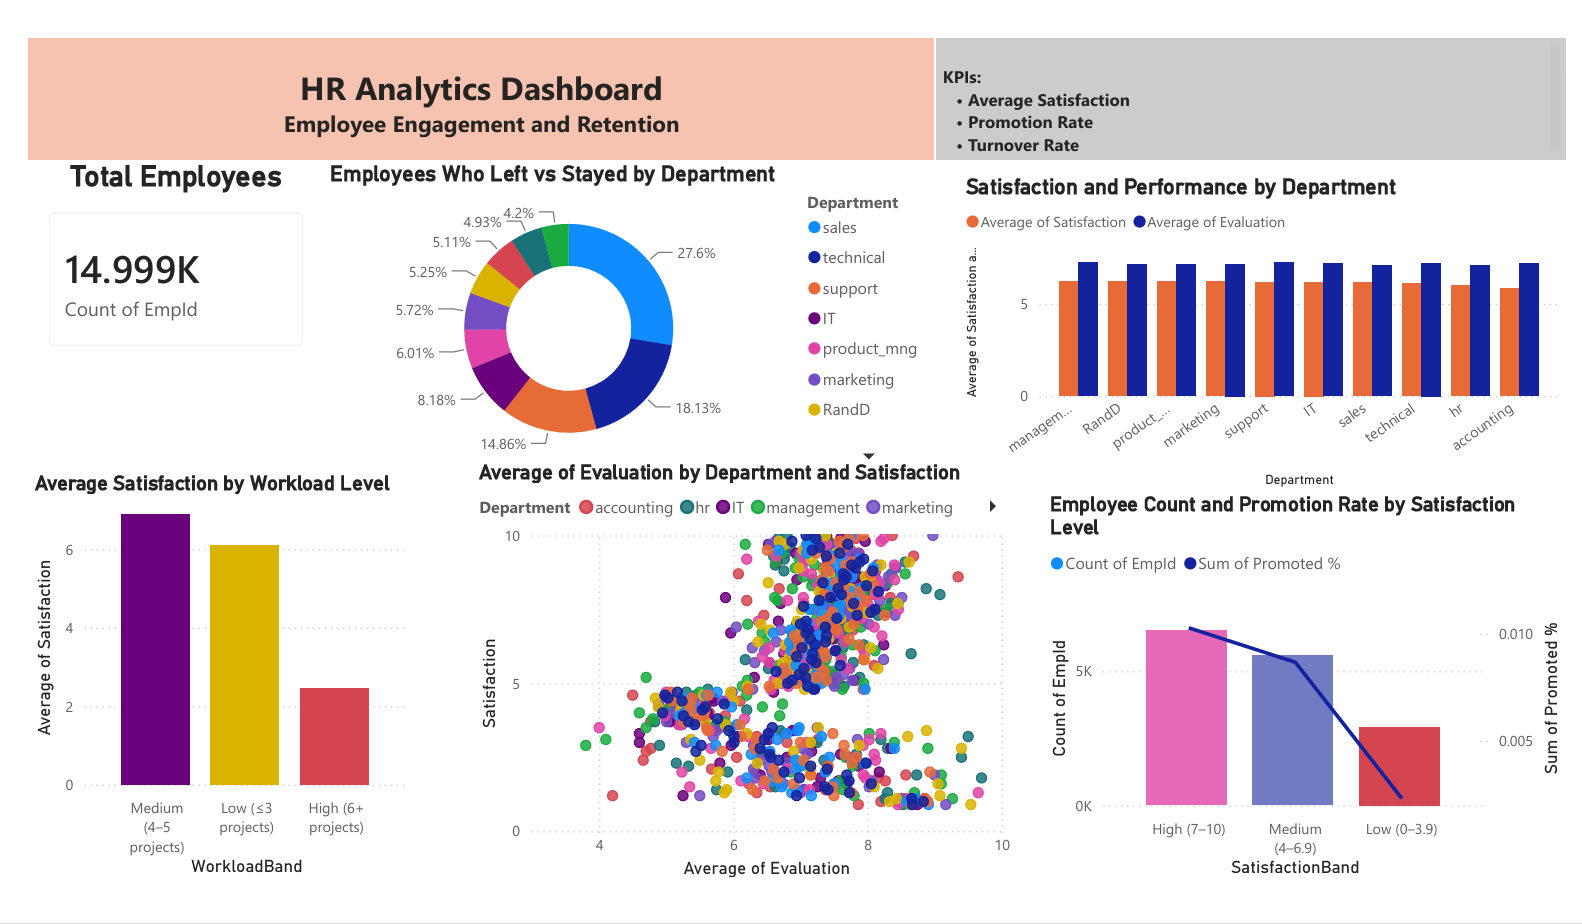

Layout of this report page (visuals, bound fields, positions):
{"tool":"powerbi","page":{"name":"Overview","canvas":[1280,720],"ordinal":0},"visuals":[{"type":"donutChart","title":"Employees Who Left vs Stayed by Department","fields":{"Category":["Sheet1.Department"],"Y":["CountNonNull(Sheet1.EmpId)"]},"box":[245.7,94.5,508.4,274],"z":0},{"type":"clusteredColumnChart","title":"Satisfaction and Performance by Department","fields":{"Category":["Sheet1.Department"],"Y":["Avg(Sheet1.Satisfaction)","Avg(Sheet1.Evaluation)"]},"box":[775.4,109.8,503.6,275.8],"z":1000},{"type":"scatterChart","fields":{"Series":["Sheet1.Department"],"X":["Avg(Sheet1.Evaluation)"],"Y":["Sheet1.Satisfaction"]},"box":[370.4,359.1,451.7,351.5],"z":2000},{"type":"lineClusteredColumnComboChart","title":"Employee Count and Promotion Rate by Satisfaction Level","fields":{"Category":["Sheet1.SatisfactionBand"],"Y":["CountNonNull(Sheet1.EmpId)"],"Y2":["Sum(Sheet1.Promoted %)"]},"box":[845.4,385.6,433.7,325.2],"z":3000},{"type":"cardVisual","title":"Total Employees","fields":{"Data":["CountNonNull(Sheet1.EmpId)"]},"box":[0,109,245.3,172.6],"z":4000},{"type":"textbox","box":[0,0,775.4,96.1],"z":5000},{"type":"clusteredColumnChart","title":"Average Satisfaction by Workload Level","fields":{"Category":["Sheet1.WorkloadBand"],"Y":["Avg(Sheet1.Satisfaction)"]},"box":[0,368,320.8,341.5],"z":6000},{"type":"textbox","box":[775.4,0,502.3,96.1],"z":7000}]}

Visuals, with their boxes on the page's 1280x720 design canvas (x1, y1, x2, y2). These are canvas units, not pixel positions in the 1582x924 screenshot, which may show the page scaled, cropped or inside an application window:
"Employees Who Left vs Stayed by Department" donutChart: pyautogui.locateOnScreen(246, 94, 754, 368)
"Satisfaction and Performance by Department" clusteredColumnChart: pyautogui.locateOnScreen(775, 110, 1279, 386)
scatterChart - Sheet1.Department x Avg(Sheet1.Evaluation): pyautogui.locateOnScreen(370, 359, 822, 711)
"Employee Count and Promotion Rate by Satisfaction Level" lineClusteredColumnComboChart: pyautogui.locateOnScreen(845, 386, 1279, 711)
"Total Employees" cardVisual: pyautogui.locateOnScreen(0, 109, 245, 282)
textbox: pyautogui.locateOnScreen(0, 0, 775, 96)
"Average Satisfaction by Workload Level" clusteredColumnChart: pyautogui.locateOnScreen(0, 368, 321, 710)
textbox: pyautogui.locateOnScreen(775, 0, 1278, 96)
